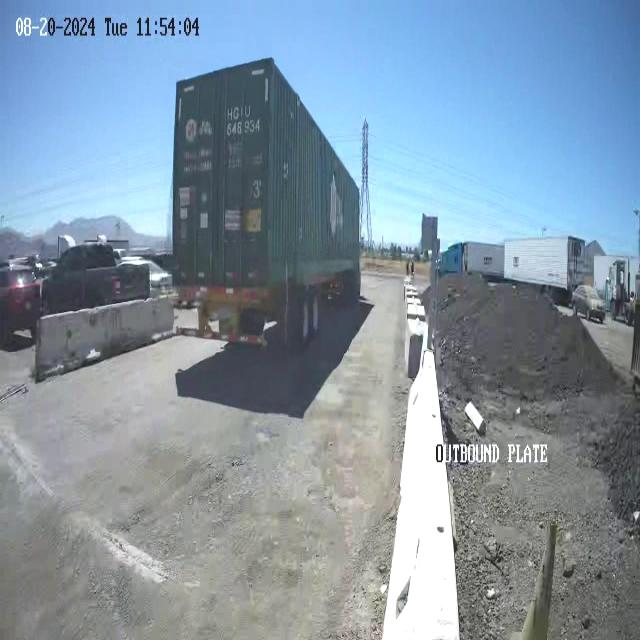CONTAINER: (170, 55, 358, 294)
